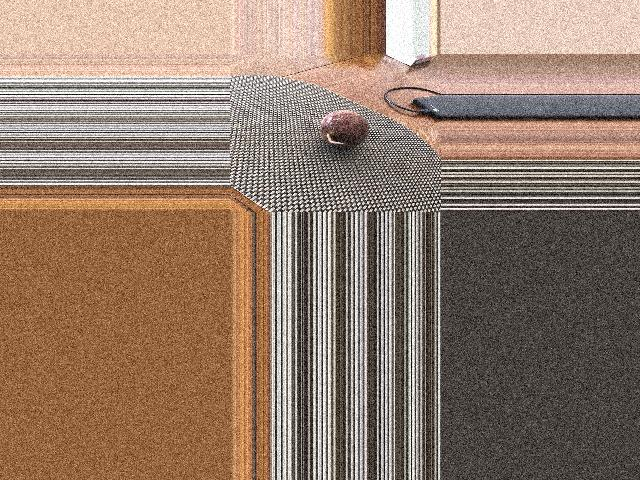beet: (320, 110, 369, 147)
